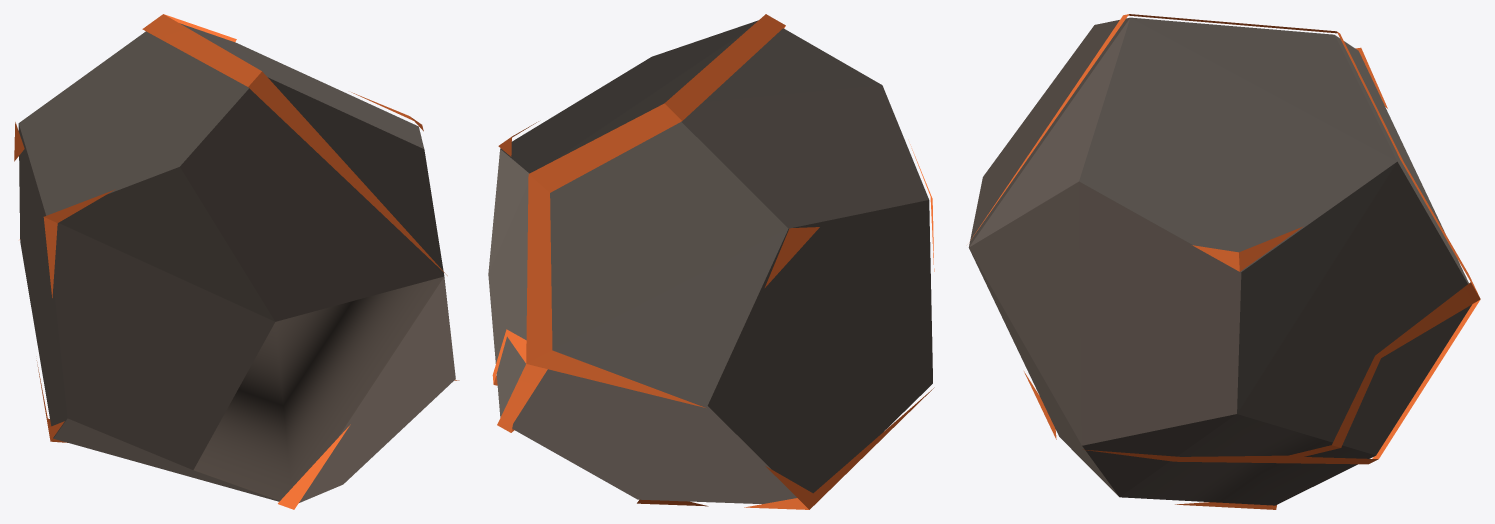
The model's file is rock.FBX.
3 renders of one model, left to right at view 1: azimuth 30°, elevation 25°; view 2: azimuth 150°, elevation 25°; view 3: azimuth 270°, elevation 25°, orthographic. The views are drawn at different scales.
Parts seen in each view (by area): view 1: rock; view 2: rock; view 3: rock.
Boxes of the visible parts, x1,y1,x2,y2 form: rock: (14,14,459,509); rock: (488,14,934,509); rock: (968,14,1480,509).
Size of the model in its own units: 70.19 by 72.4 by 72.49.
